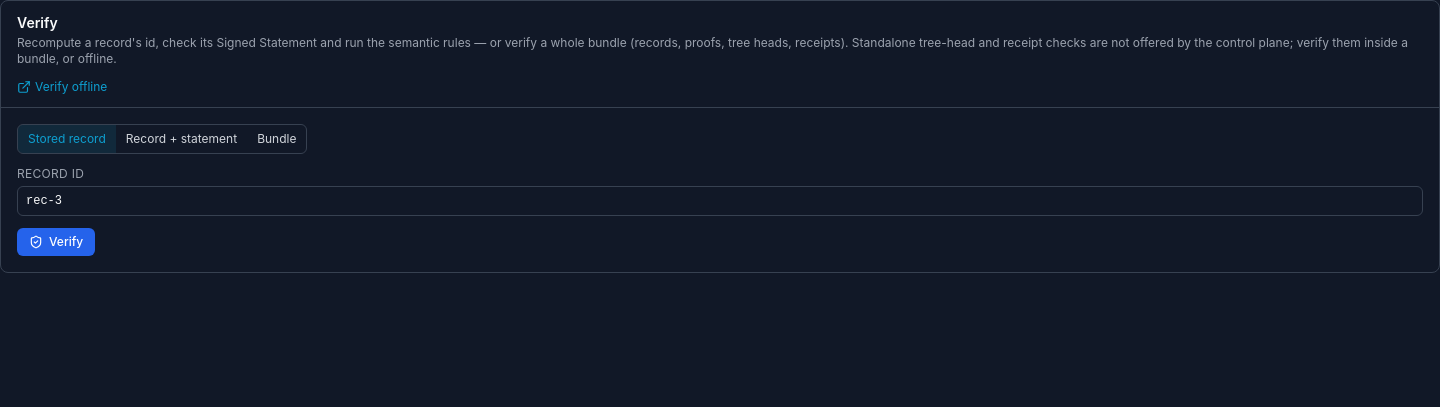
Test: VerifyPanel › shows verifier_unavailable as a state of the tool, apart from any result
The width and height of the screenshot is (1440, 407).
Click the button with test id "verify-run" at (56, 242), box [17, 228, 95, 256]
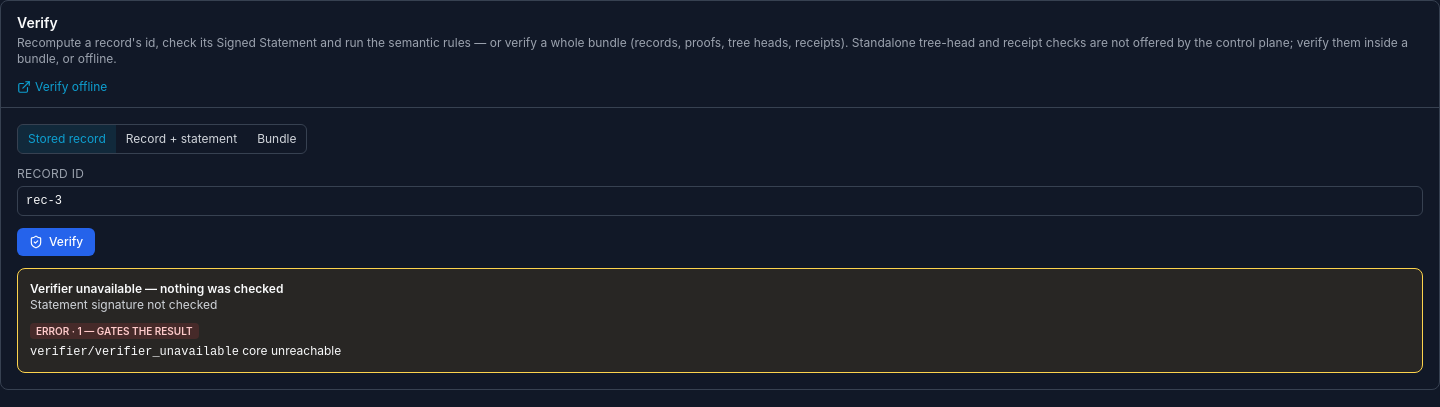
Expected: the element with test id "verify-result" does not show "Recomputed", [17, 268, 1423, 373]
Now the element with test id "verify-result" shows "Verifier unavailable — nothing was checked", box [30, 281, 283, 296]
Now the element with test id "verify-result" shows "core unreachable", box [242, 343, 341, 358]
